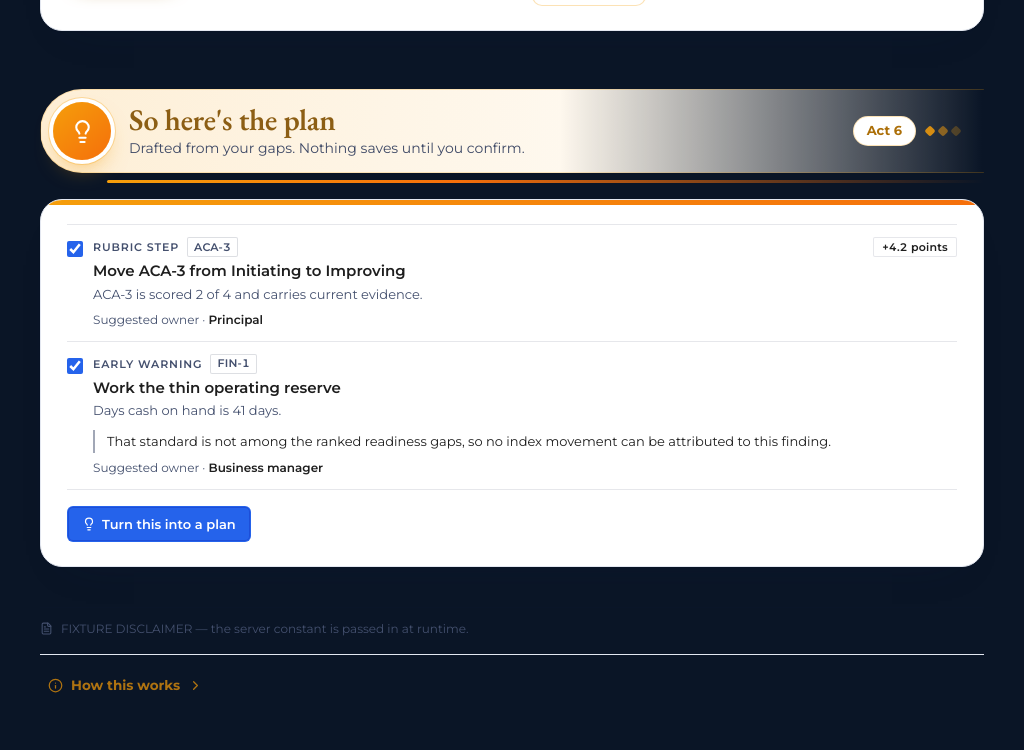
Test: SPEC-WEB-9 — the per-row adopt report survives the automatic refetch › the row that succeeded is still counted after the server drops it from the draft
(page scrolled)
Click the button "Turn this into a plan" at {"x": 159, "y": 524}, box left=67, top=506, right=251, bottom=542
(page scrolled)
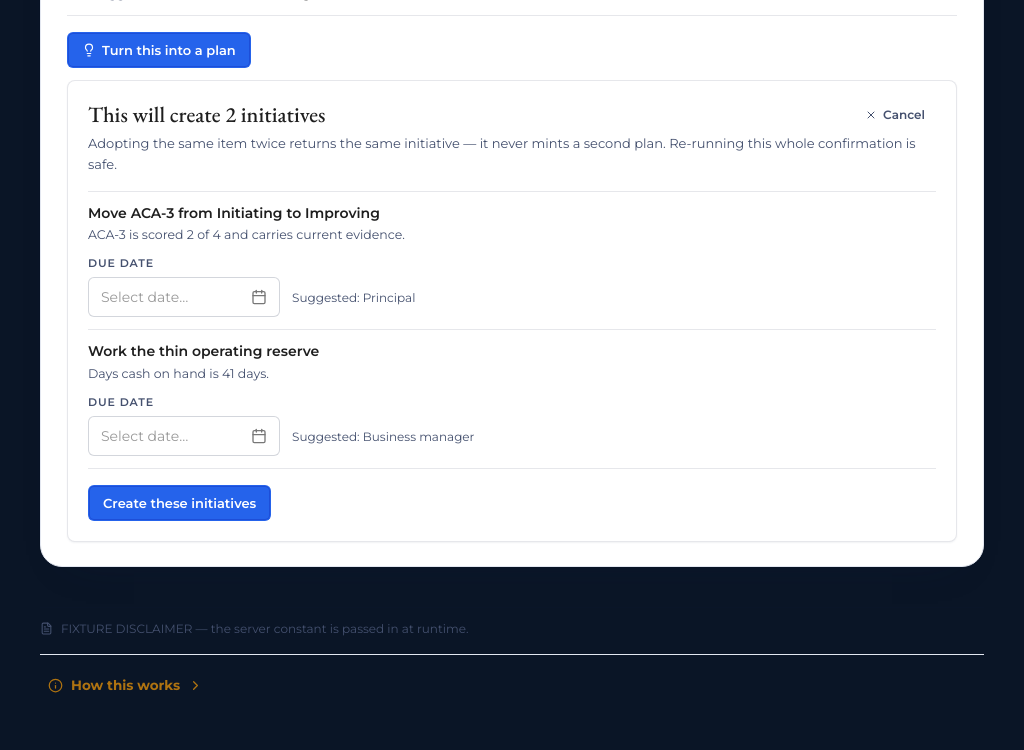
Check: the element with test id "plan-confirm" is shown, box left=67, top=80, right=957, bottom=542
Click the button "Create these initiatives" at {"x": 180, "y": 503}, box left=88, top=485, right=271, bottom=521
(page scrolled)
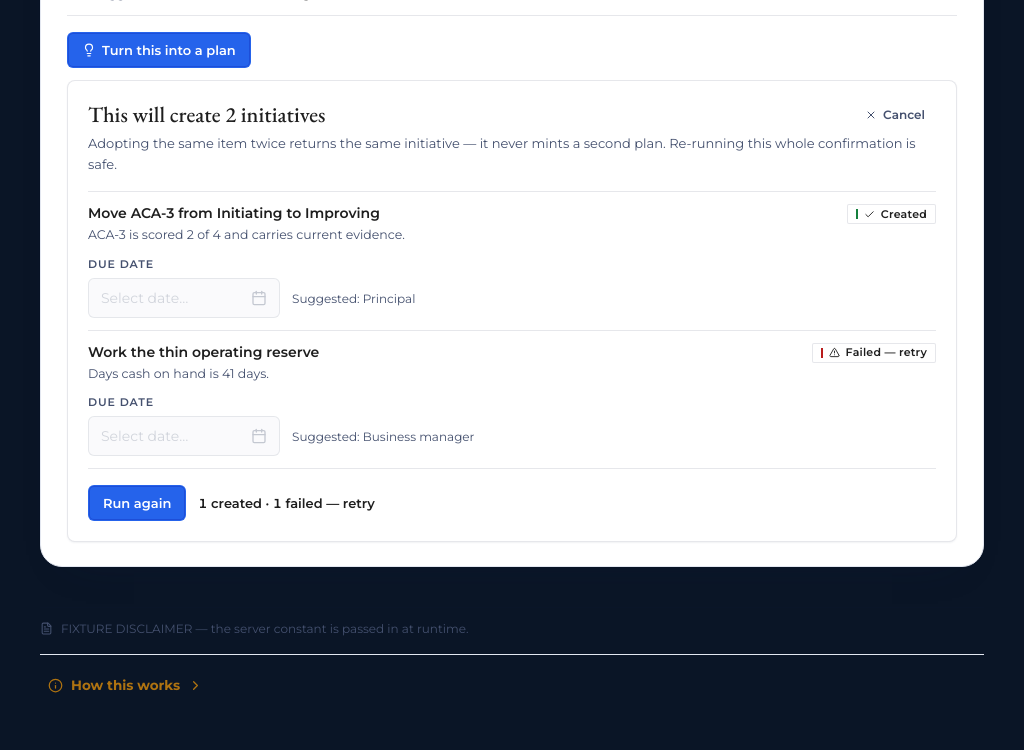
Check: the text "1 created · 1 failed — retry" is shown, box left=198, top=494, right=375, bottom=512
Check: the text with test id "run-tally" shows "1 created", box left=198, top=495, right=375, bottom=511
